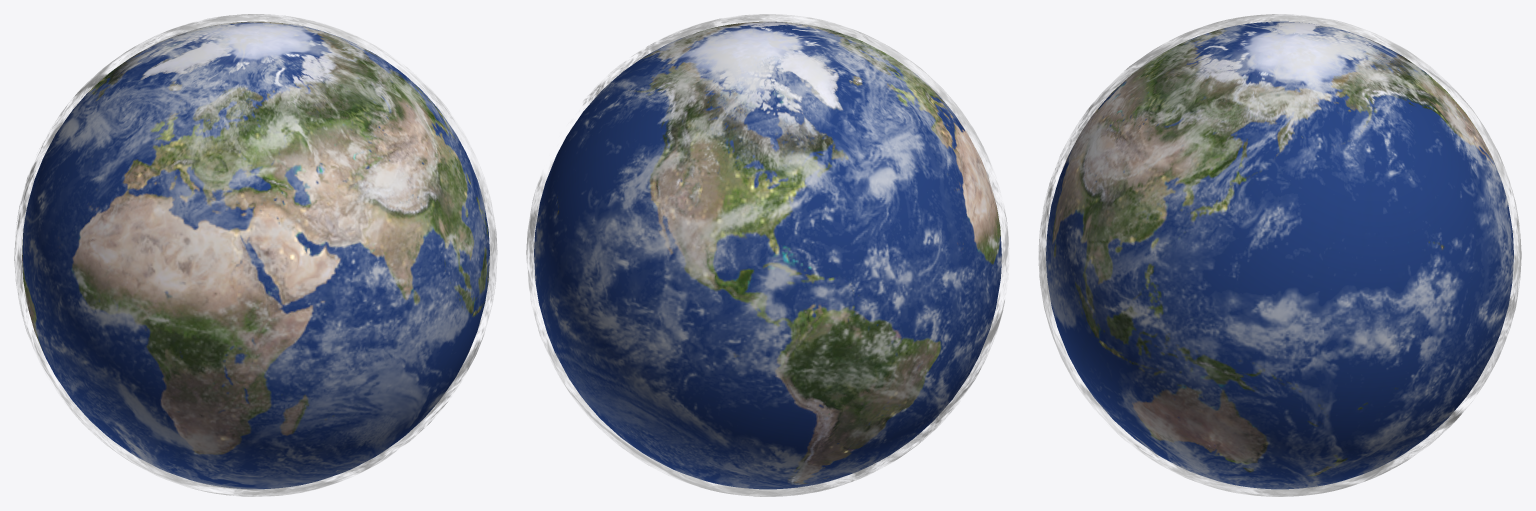
The picture shows the model from 3 angles, left to right: view 1: azimuth 30°, elevation 25°; view 2: azimuth 150°, elevation 25°; view 3: azimuth 270°, elevation 25°; orthographic projection.
Visible parts, largest first — view 1: ZIEMIA_0, CHMURY_1; view 2: ZIEMIA_0, CHMURY_1; view 3: ZIEMIA_0, CHMURY_1.
Part boxes in pixels (x1,y1,x2,y2): ZIEMIA_0: [22, 21, 489, 489]; CHMURY_1: [14, 14, 497, 496]; ZIEMIA_0: [534, 21, 1001, 489]; CHMURY_1: [526, 14, 1008, 496]; ZIEMIA_0: [1046, 21, 1513, 489]; CHMURY_1: [1038, 14, 1521, 496].
Bounding box in the file's own units: 11.42 × 11.42 × 11.42.
Materials: 2 (2 with a texture image).
